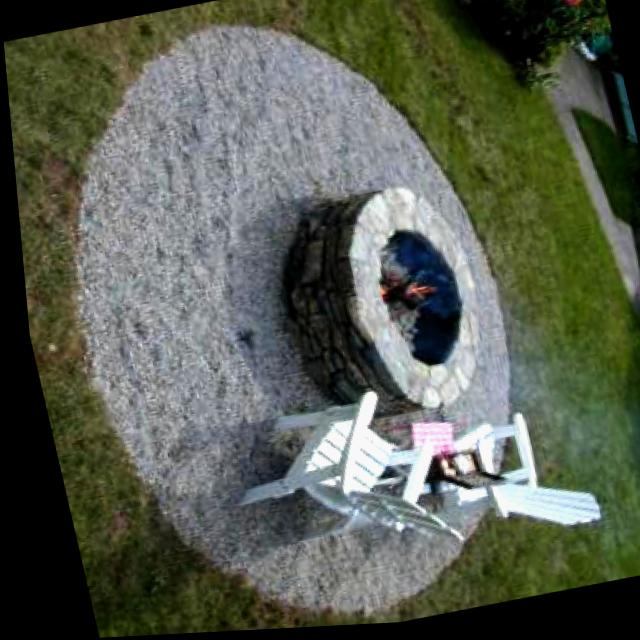Fire: (376, 273, 442, 317)
